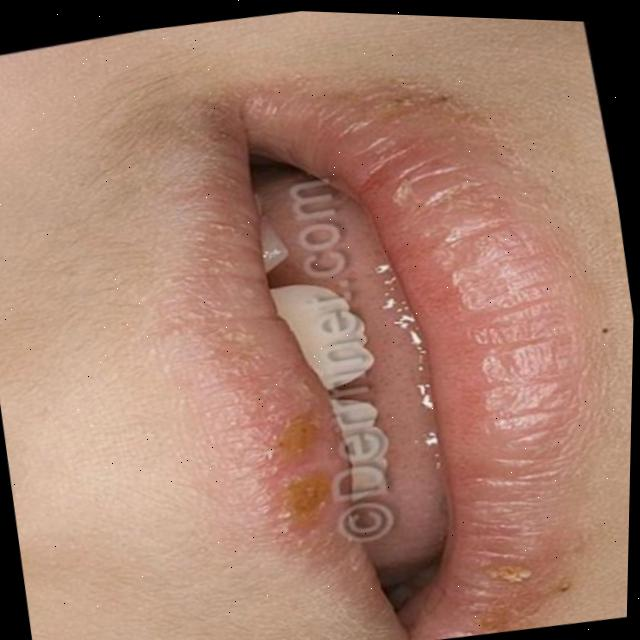Eczema: (168, 99, 584, 640)
